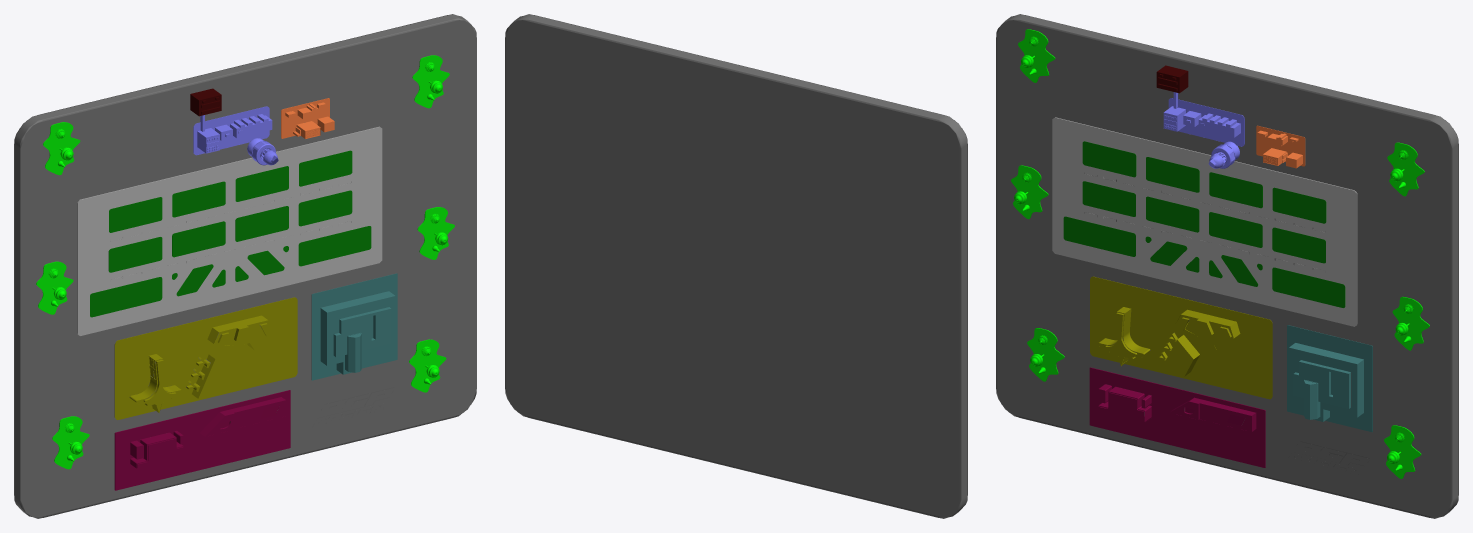
File: Jichang1.obj
The picture shows the model from 3 angles, left to right: view 1: azimuth 30°, elevation 25°; view 2: azimuth 150°, elevation 25°; view 3: azimuth 330°, elevation 25°; orthographic projection.
Bounding box in the file's own units: 6 × 5 × 0.638.
